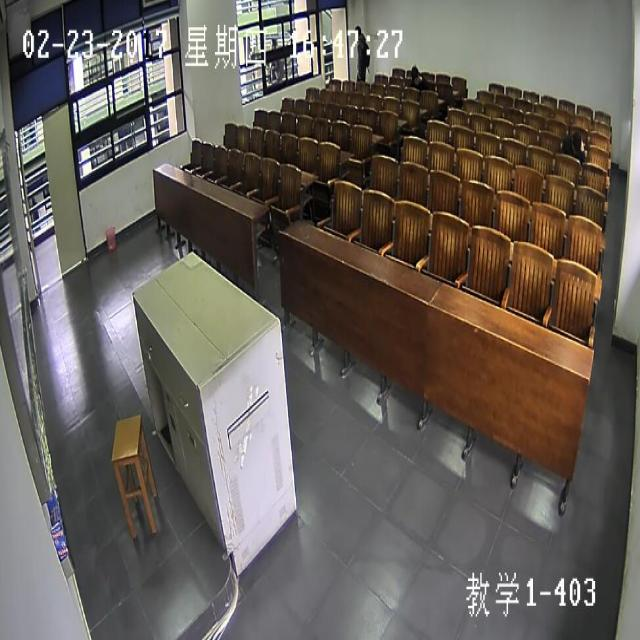person: (570, 132, 582, 155), (411, 64, 420, 82), (354, 25, 362, 38)
